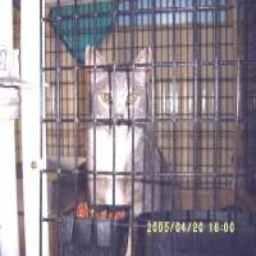cat: (79, 42, 180, 223)
